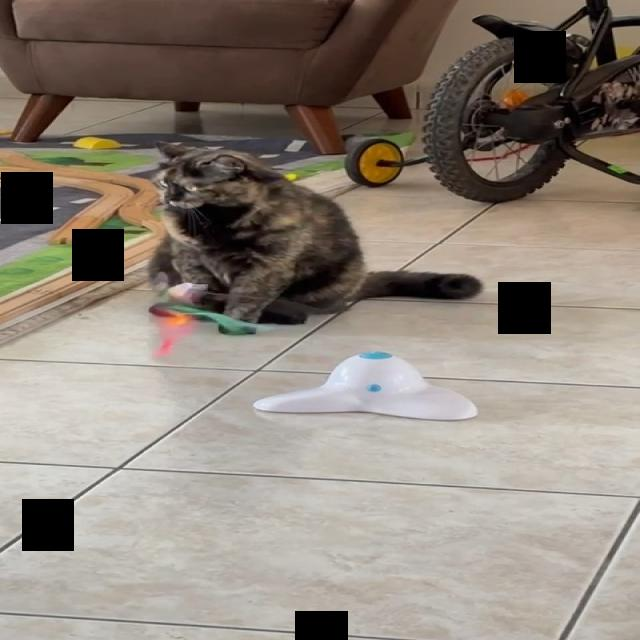authorized: (145, 140, 483, 325)
